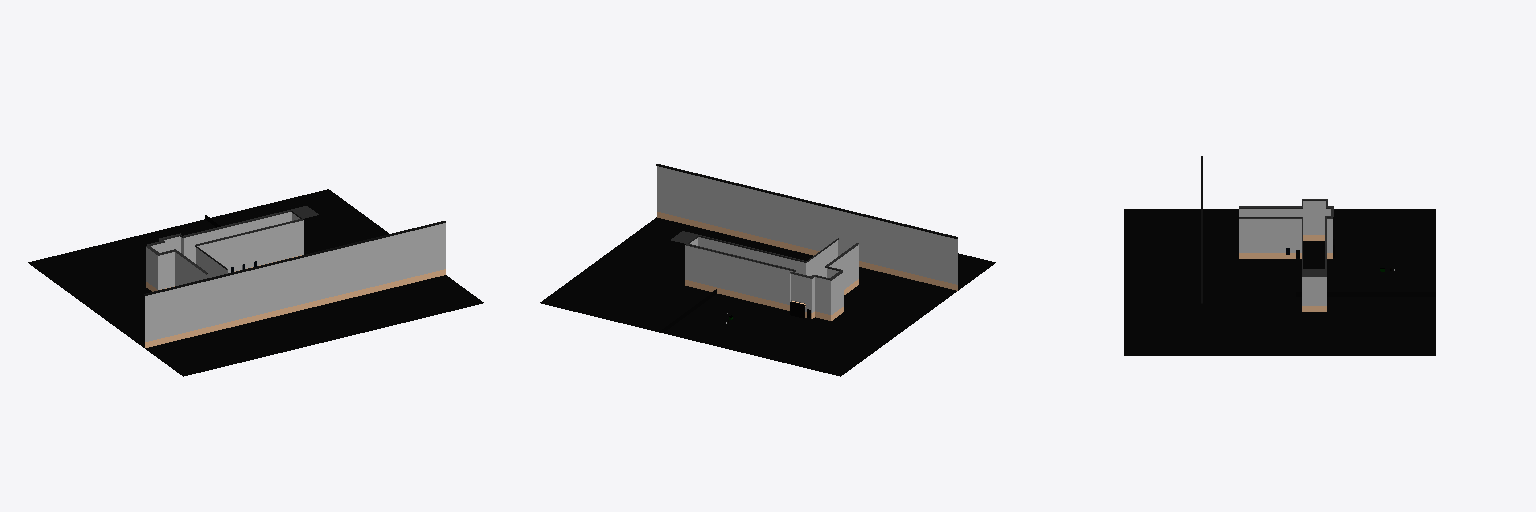
Rendered from TutorialMap.obj.
3 views of the same model, side by side, from view 1: azimuth 30°, elevation 25°; view 2: azimuth 150°, elevation 25°; view 3: azimuth 270°, elevation 25° (orthographic).
Visible parts, largest first — view 1: Plane_Plane.003, Cube.003_Cube.002; view 2: Plane_Plane.003, Cube.003_Cube.002; view 3: Plane_Plane.003, Cube.003_Cube.002.
Boxes of the visible parts, <box> form: Plane_Plane.003: <box>28,189,483,376</box>; Cube.003_Cube.002: <box>146,206,318,291</box>; Plane_Plane.003: <box>540,164,995,376</box>; Cube.003_Cube.002: <box>671,231,858,320</box>; Plane_Plane.003: <box>1124,156,1435,355</box>; Cube.003_Cube.002: <box>1239,199,1334,311</box>.
Bounding box in the file's own units: 60.34 × 10.31 × 54.05.